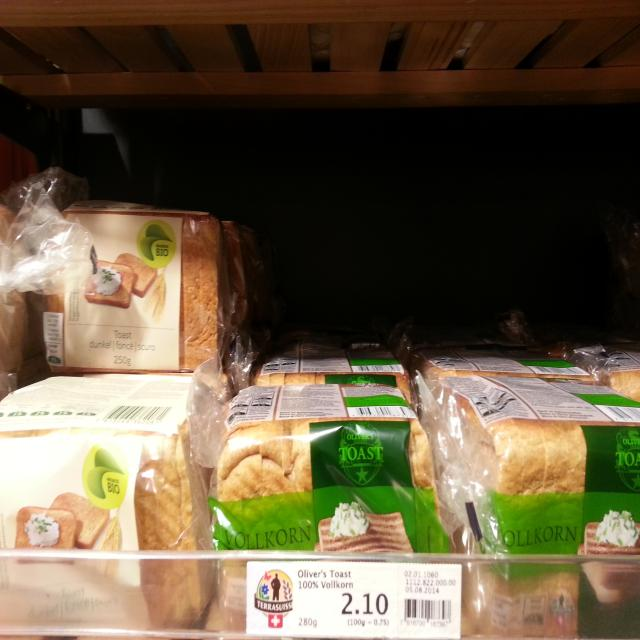Bakery: (215, 384, 446, 628), (0, 387, 214, 630), (442, 376, 640, 634), (38, 192, 226, 374)
